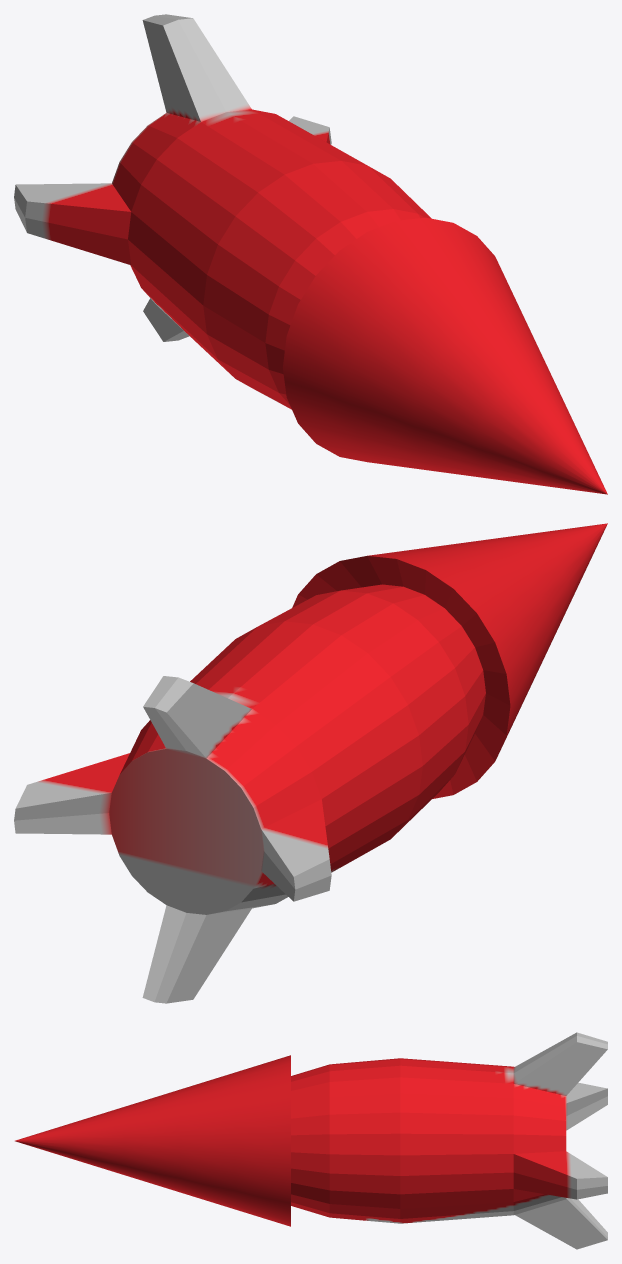
File: rocket.FBX
3 views of the same model, one above another, from view 1: azimuth 30°, elevation 25°; view 2: azimuth 150°, elevation 25°; view 3: azimuth 270°, elevation 25° (orthographic). The views are drawn at different scales.
Parts seen in each view (by area): view 1: Cone001; view 2: Cone001; view 3: Cone001.
Boxes of the visible parts, box(x1,y1,x2,y2) form: Cone001: box(14, 14, 607, 494); Cone001: box(14, 523, 607, 1003); Cone001: box(15, 1032, 607, 1249).
Size of the model in its own units: 20.09 by 20.09 by 51.45.
Materials: 1 (1 with a texture image).
